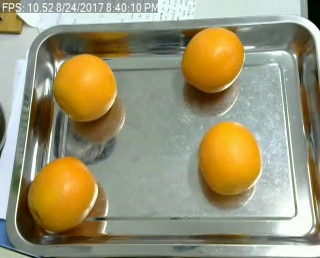Orange: (25, 157, 98, 231), (199, 120, 261, 196), (53, 52, 117, 122), (180, 26, 243, 92)
